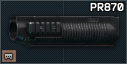M870 FAB Defense PR870 forestock: (0, 0, 127, 64)
